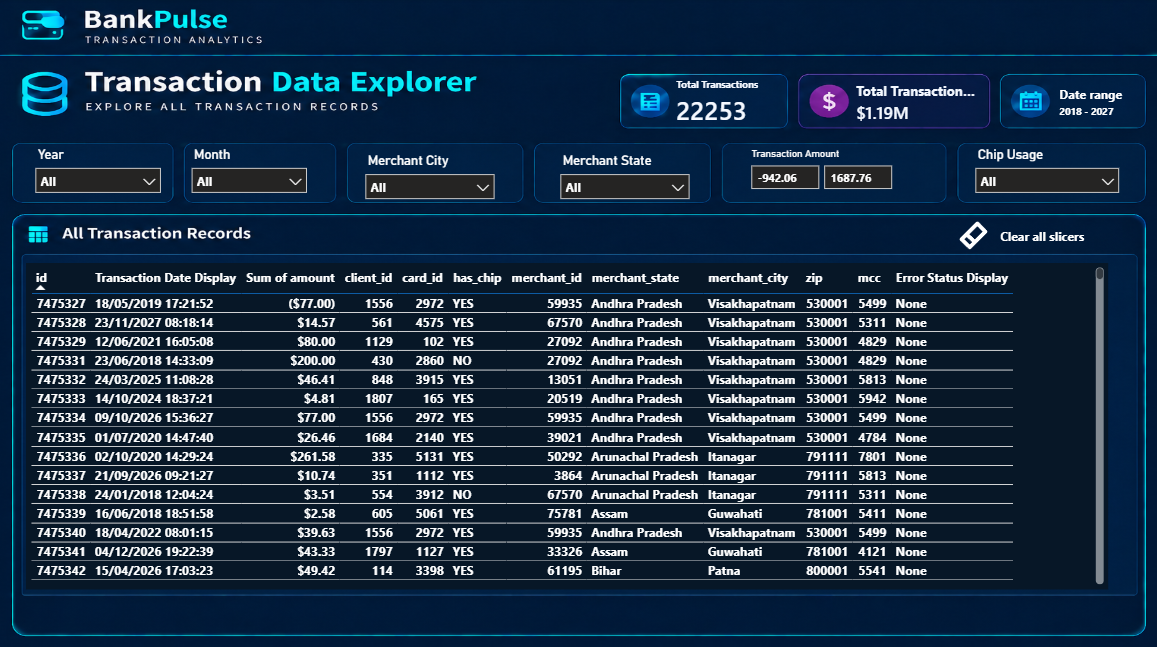

This screenshot's page, from the dashboard's own definition file:
{"tool":"powerbi","page":{"name":"Transaction Data Explorer","canvas":[1280,720],"ordinal":4},"visuals":[{"type":"cardVisual","fields":{"Data":["Measures (2).Total Transactions"]},"box":[718.3,56.7,196.7,116.7],"z":0},{"type":"cardVisual","title":"Total Amount","fields":{"Data":["Measures (2).Total Transaction Amount"]},"box":[915,71.7,191.7,86.7],"z":1000},{"type":"textbox","box":[1161.7,91.7,118.3,46.7],"z":2000},{"type":"tableEx","fields":{"Values":["transactions_data.id","transactions_data.Transaction Date Display","Sum(transactions_data.amount)","transactions_data.client_id","transactions_data.card_id","cards_data.has_chip","transactions_data.merchant_id","transactions_data.merchant_state","transactions_data.merchant_city","transactions_data.zip","transactions_data.mcc","transactions_data.Error Status Display"]},"box":[32.9,290.9,1188.3,358.1],"z":3000},{"type":"slicer","fields":{"Values":["Calendar.Year"]},"box":[32.9,157.8,157.8,68.6],"z":3001},{"type":"slicer","fields":{"Values":["Calendar.Month"]},"box":[204.5,157.8,146.8,61.7],"z":3002},{"type":"slicer","fields":{"Values":["transactions_data.merchant_city"]},"box":[395.2,164.7,161.9,61.7],"z":3003},{"type":"slicer","fields":{"Values":["transactions_data.merchant_state"]},"box":[609.3,164.7,161.9,61.7],"z":3004},{"type":"slicer","fields":{"Values":["transactions_data.amount"]},"box":[816.5,159.2,222.3,60.4],"z":3005},{"type":"slicer","fields":{"Values":["cards_data.has_chip"]},"box":[1064.8,157.8,178.4,61.7],"z":3006},{"type":"actionButton","box":[1053.9,241.5,189.4,38.4],"z":3007}]}

Visuals, with their boxes in screenshot pixels (x1, y1, x2, y2), scaled from the page's 1280x720 canvas onto the 1157x647 screenshot:
cardVisual - Measures (2).Total Transactions: 649, 51, 827, 156
"Total Amount" cardVisual: 827, 64, 1000, 142
textbox: 1050, 82, 1156, 124
tableEx - transactions_data.id x transactions_data.Transaction Date Display: 30, 261, 1104, 583
slicer - Calendar.Year: 30, 142, 172, 203
slicer - Calendar.Month: 185, 142, 318, 197
slicer - transactions_data.merchant_city: 357, 148, 504, 203
slicer - transactions_data.merchant_state: 551, 148, 697, 203
slicer - transactions_data.amount: 738, 143, 939, 197
slicer - cards_data.has_chip: 962, 142, 1124, 197
actionButton: 953, 217, 1124, 252
